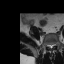CCS_stenosis: (50, 42, 52, 50)
LFS_normal: (53, 41, 55, 48)
LLS_normal: (52, 42, 53, 49)
RFS_normal: (46, 41, 48, 48)
RLS_normal: (48, 42, 50, 49)
